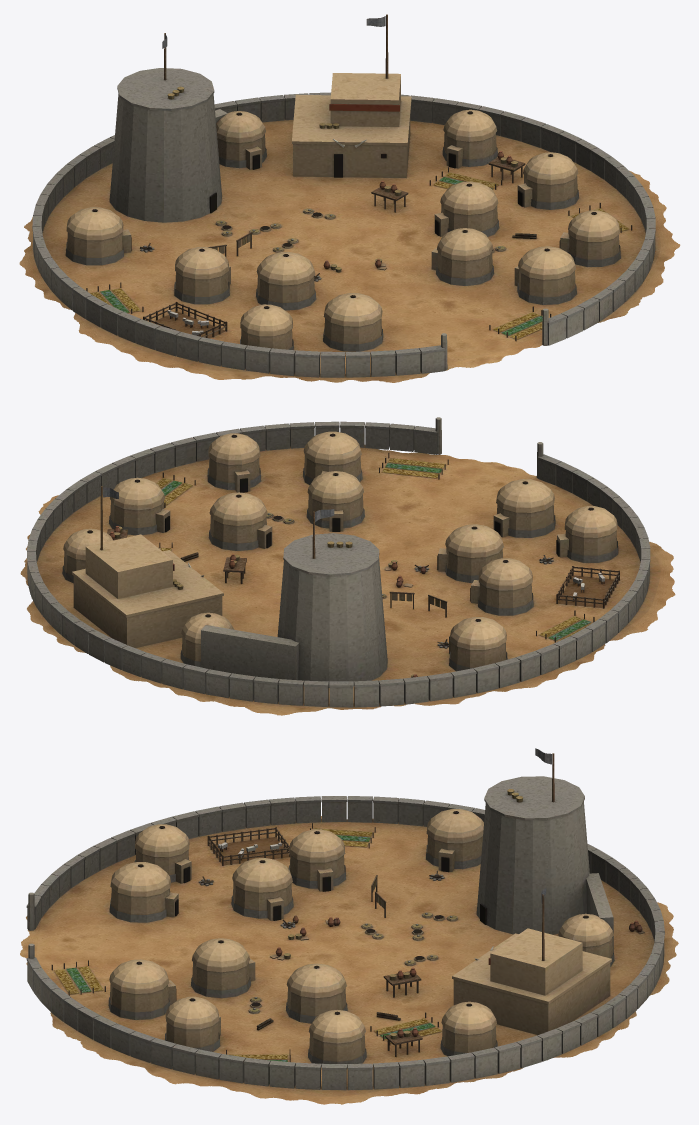
The model's file is stone-town-medium-a-levant.glb.
The picture shows the model from 3 angles, top to bottom: view 1: azimuth 30°, elevation 25°; view 2: azimuth 150°, elevation 25°; view 3: azimuth 270°, elevation 25°; orthographic projection. The views are drawn at different scales.
Parts seen in each view (by area): view 1: LOD0; view 2: LOD0; view 3: LOD0.
Boxes of the visible parts, x1=… form: LOD0: x1=19, y1=14, x2=680, y2=382; LOD0: x1=20, y1=417, x2=675, y2=715; LOD0: x1=20, y1=748, x2=678, y2=1104.
Size of what is drawn, in the model's own units: 6.04 by 1.55 by 5.71.
Materials: 3 (3 with a texture image).
